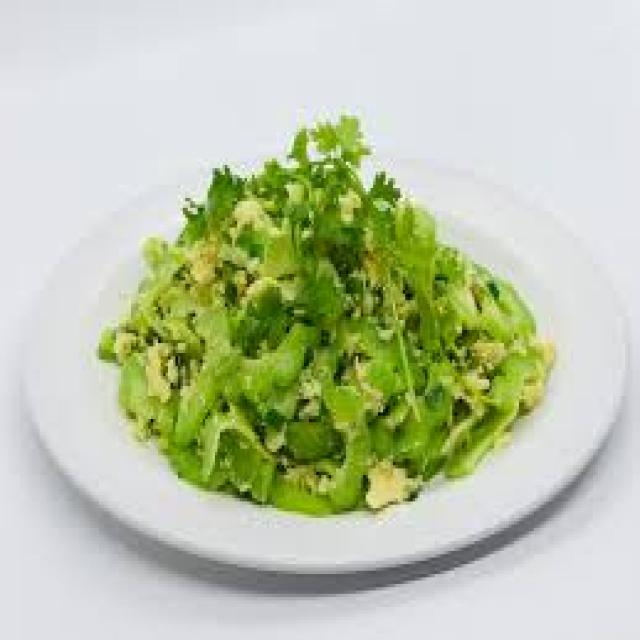kho qua: (99, 115, 549, 511)
